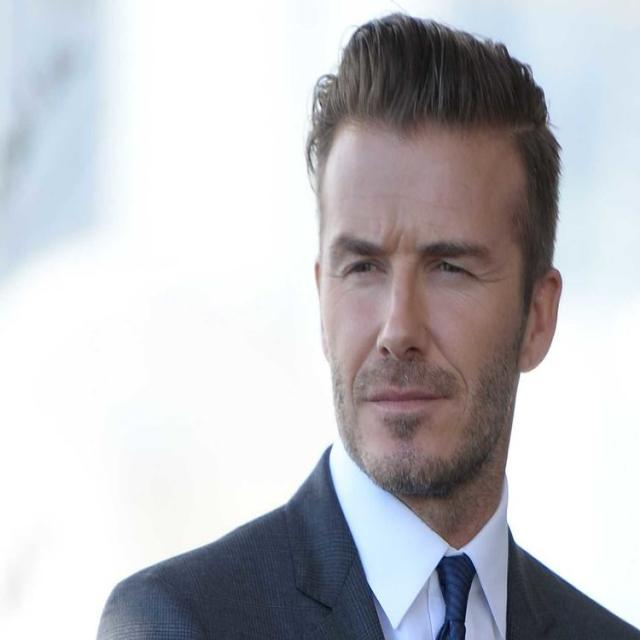mobile_phonerotation: (94, 10, 636, 638)
